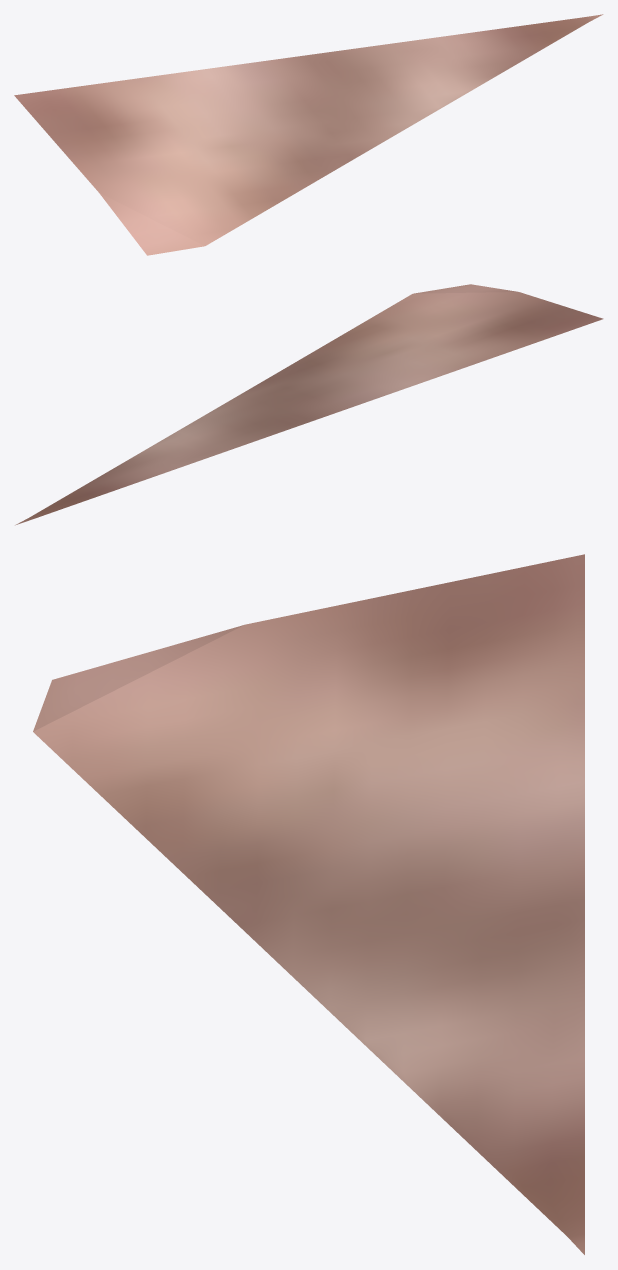
3 renders of one model, top to bottom at view 1: azimuth 30°, elevation 25°; view 2: azimuth 210°, elevation 25°; view 3: azimuth 270°, elevation 25°, orthographic. The views are drawn at different scales.
Size of the model in its own units: 0.4713 by 0.048 by 0.191.
Materials: 1 (1 with a texture image).
